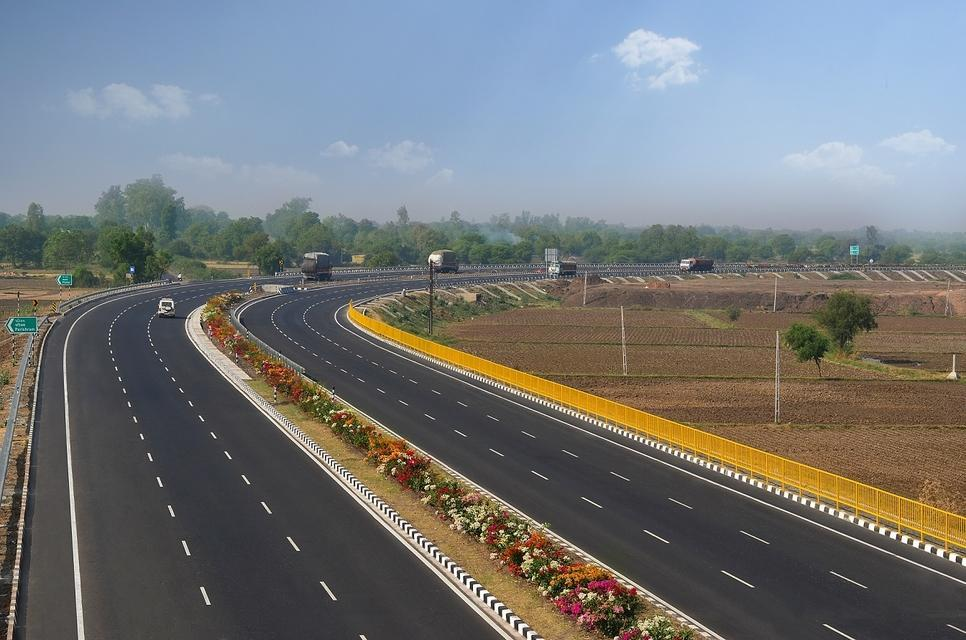car: (299, 250, 335, 282), (427, 248, 462, 275), (677, 256, 717, 276), (546, 259, 579, 279), (156, 295, 176, 317), (848, 245, 863, 256)
language: (7, 316, 38, 335), (54, 273, 73, 288)
